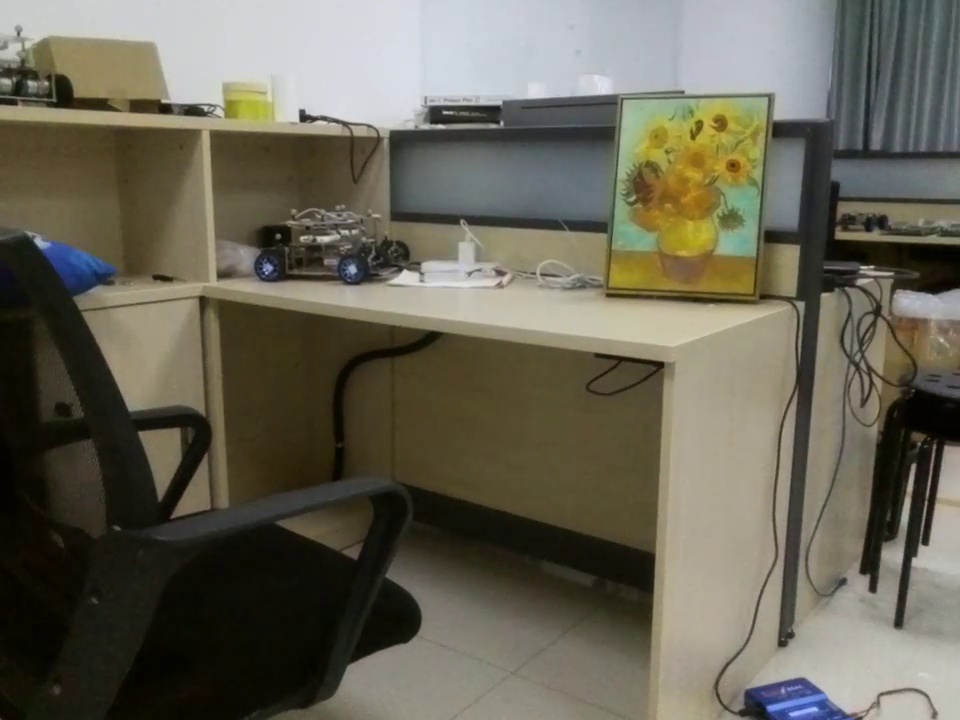painting: (603, 90, 775, 303)
